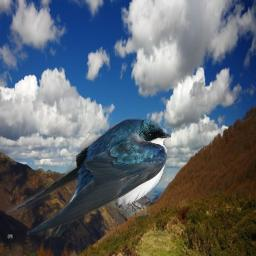Swallow: (6, 117, 171, 237)
